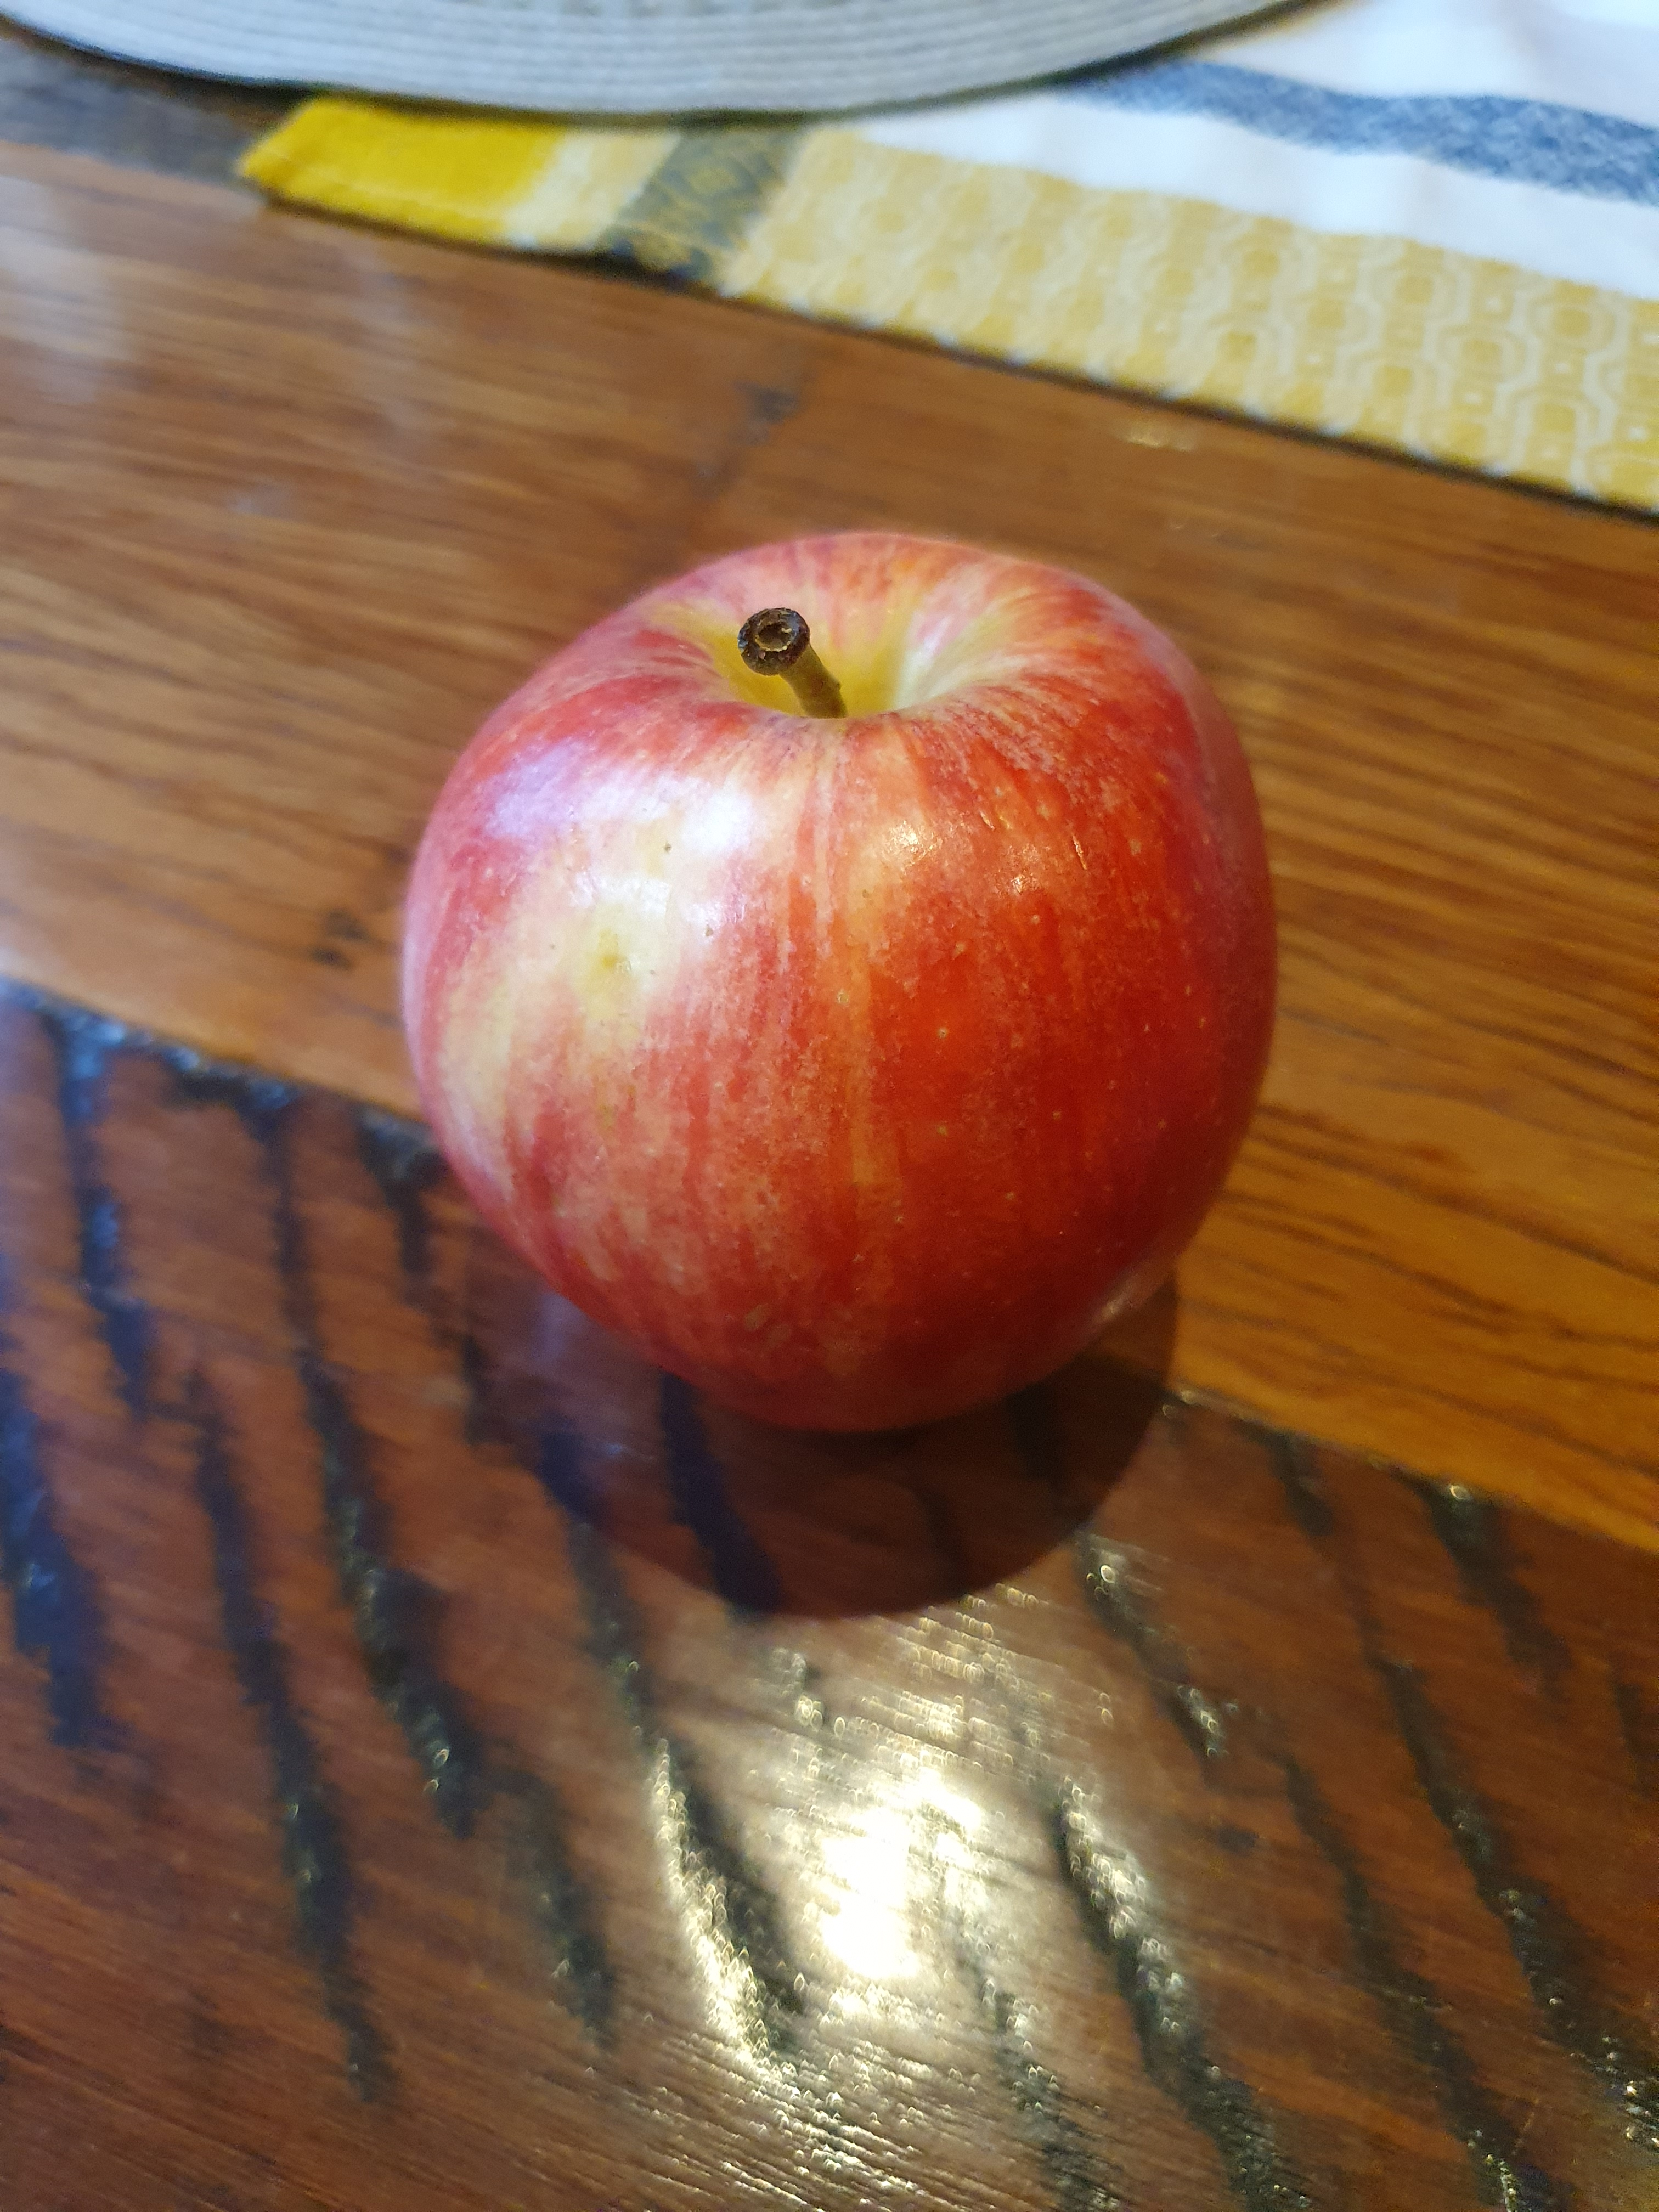red_apple: (380, 493, 1290, 1439)
